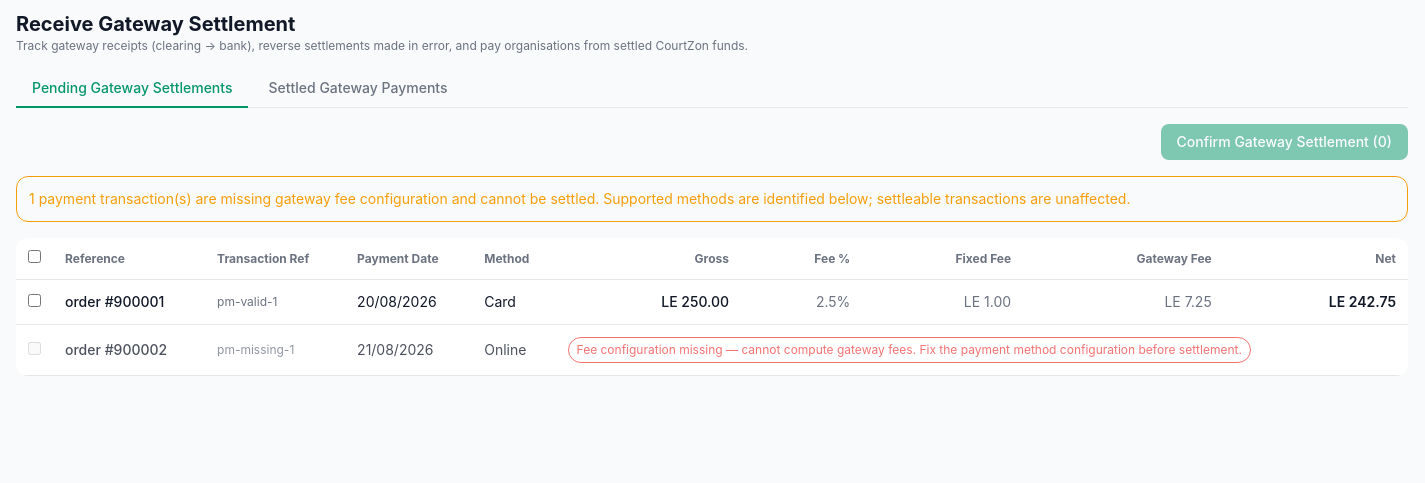
Test: GatewaySettlementPage — misconfigured fee configuration › does NOT allow selecting a misconfigured transaction, but valid rows are selectable
Expected: the checkbox named "Payment method fee configuration is missing for 'online'" is disabled, x1=28 y1=342 x2=41 y2=355
Step 1. Click the checkbox next to "order #900001" → (34,300), box x1=28 y1=294 x2=41 y2=307
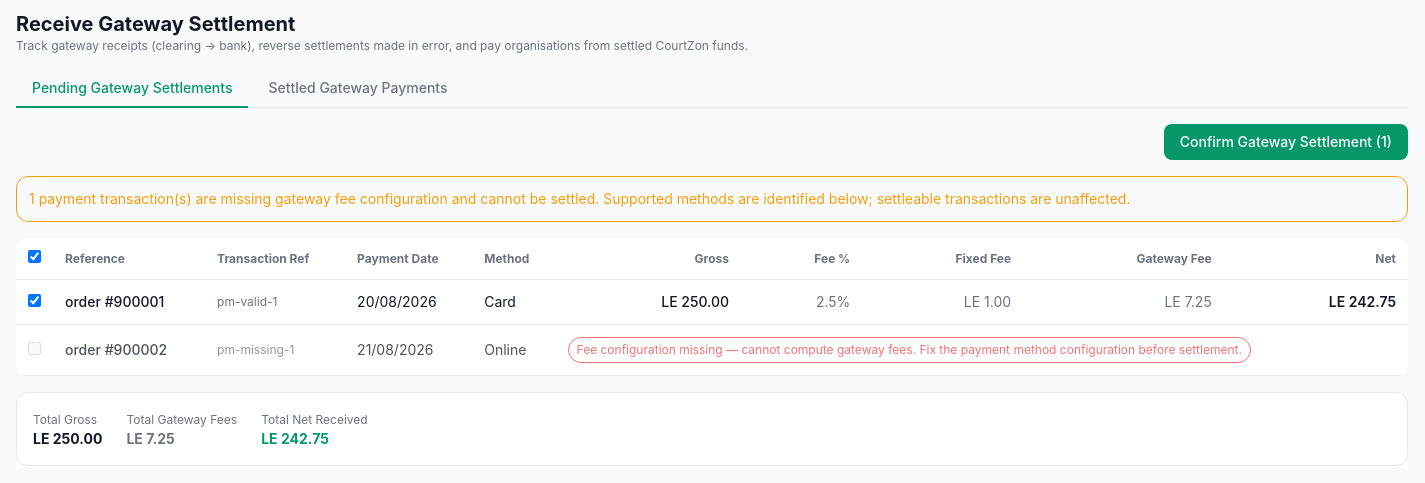
Now the button "Confirm Gateway Settlement (1)" is shown, box x1=1164 y1=124 x2=1408 y2=160
